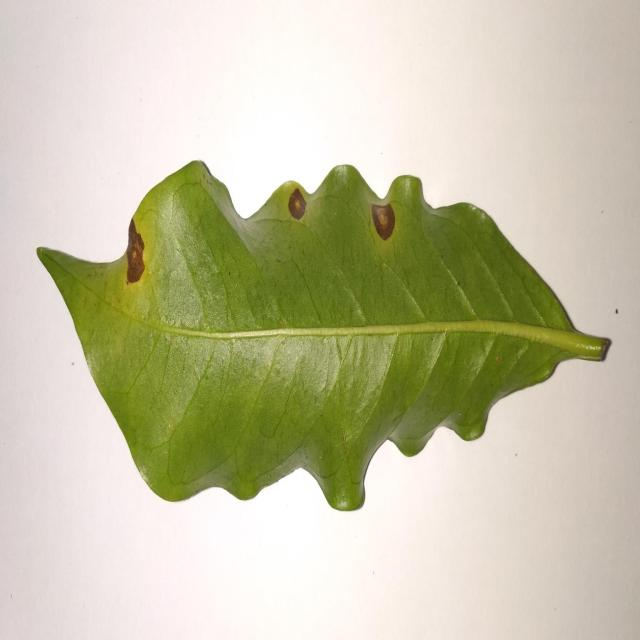Enfermedad-Mancha-de-hierro: (34, 161, 610, 515)
